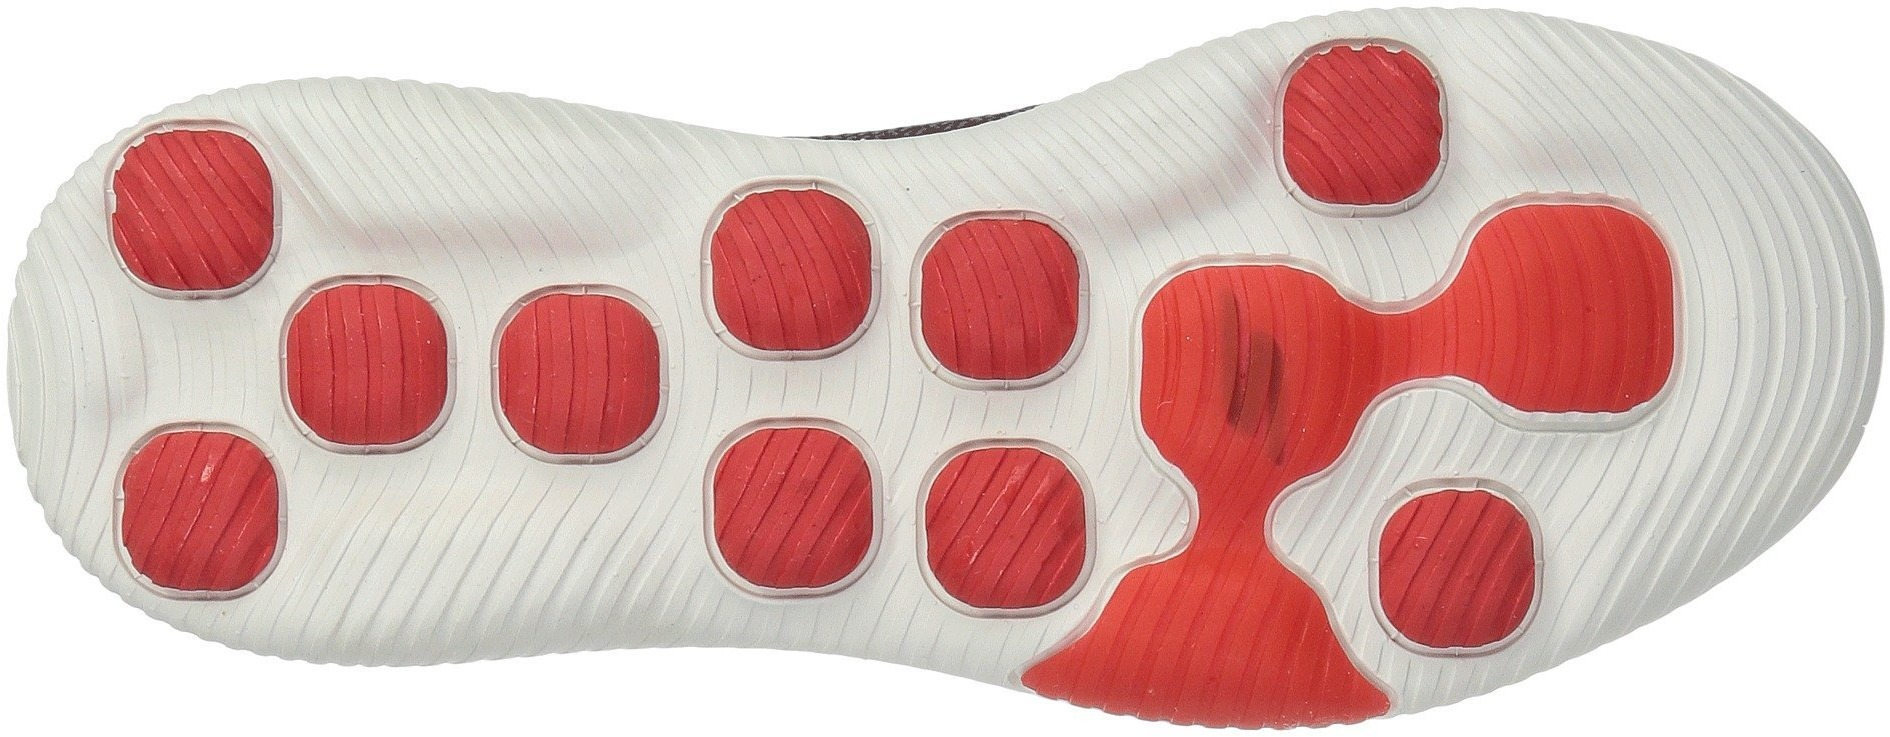circle: (471, 241, 700, 487), (80, 404, 324, 625), (82, 109, 307, 315), (909, 197, 1119, 413), (1350, 462, 1560, 672), (677, 170, 890, 369), (908, 420, 1109, 622), (1258, 34, 1462, 226), (695, 405, 885, 606)
line: (471, 241, 700, 487), (80, 404, 324, 625), (82, 109, 307, 315), (909, 197, 1119, 413), (1350, 462, 1560, 672), (677, 170, 890, 369), (908, 420, 1109, 622), (1258, 34, 1462, 226), (695, 405, 885, 606), (1675, 125, 1866, 310), (1484, 19, 1665, 185), (345, 482, 509, 636), (333, 99, 495, 236), (1170, 293, 1321, 440), (1698, 372, 1816, 495)
quad: (471, 241, 700, 487), (80, 404, 324, 625), (82, 109, 307, 315), (909, 197, 1119, 413), (1350, 462, 1560, 672), (677, 170, 890, 369), (908, 420, 1109, 622), (1258, 34, 1462, 226), (695, 405, 885, 606)
